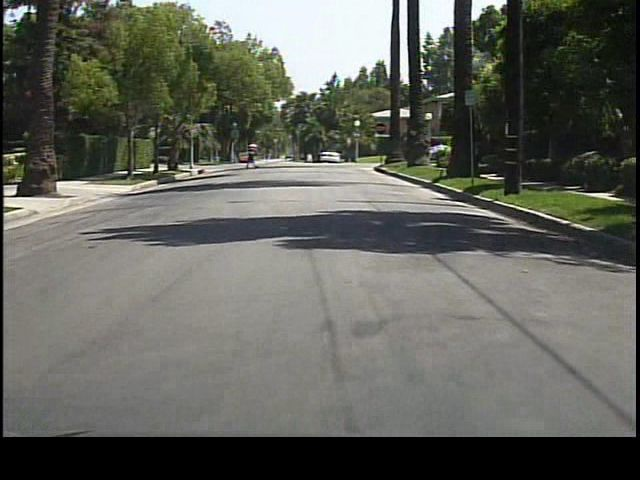person: (245, 139, 260, 170)
